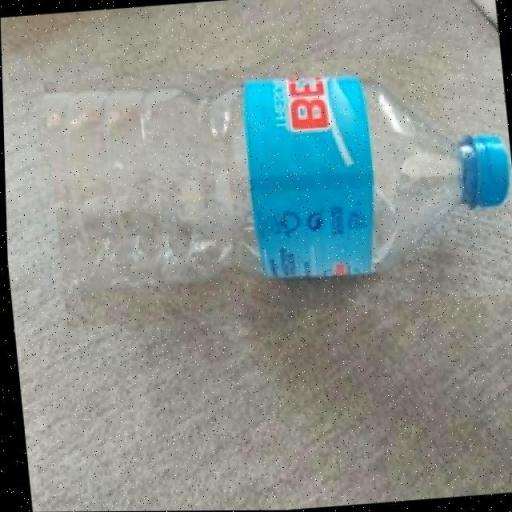plastic: (42, 56, 512, 304)
